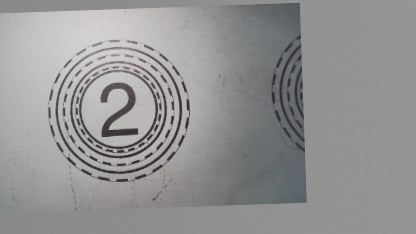2r: (41, 36, 194, 187)
